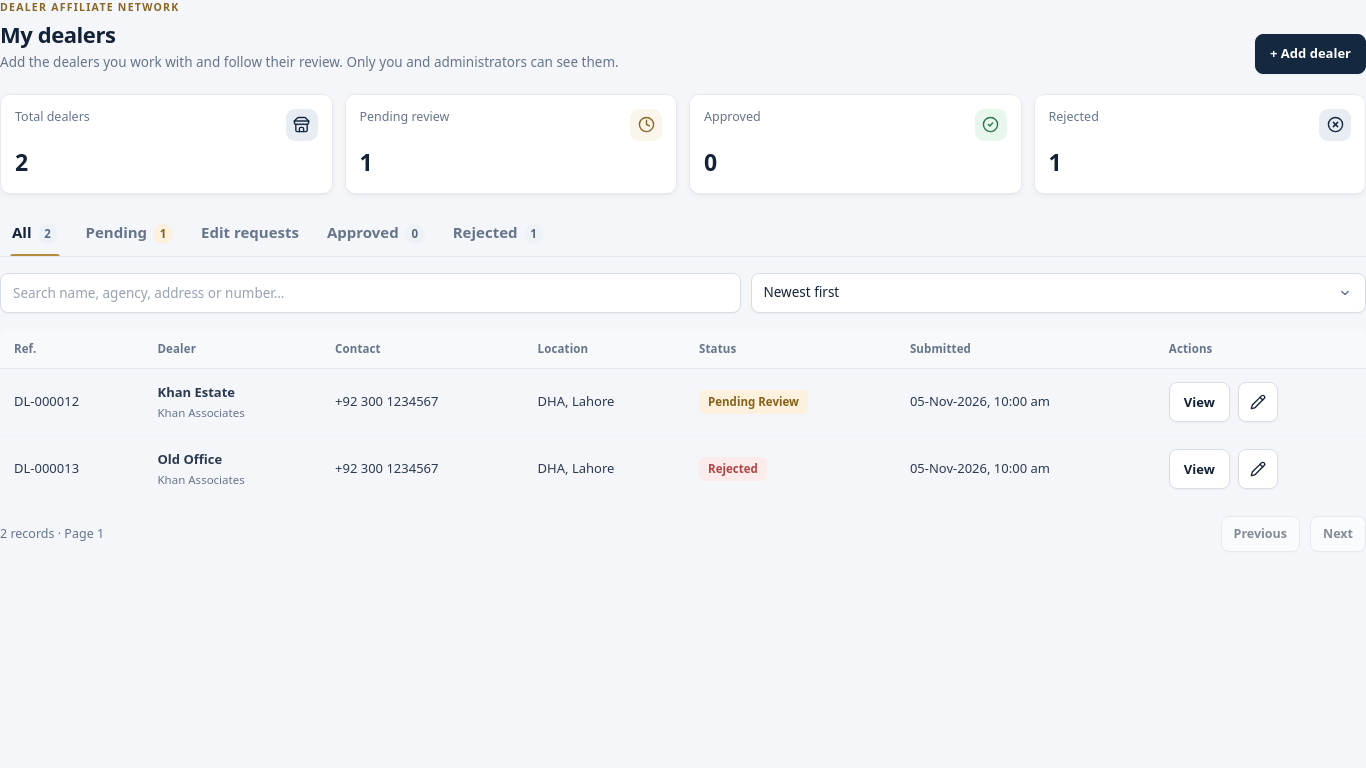
an agent's dealers › shows the rejection reason and no way to change the dealer
Click the button with aria-label "View Old Office": [1199, 469] box [1169,449,1230,489]
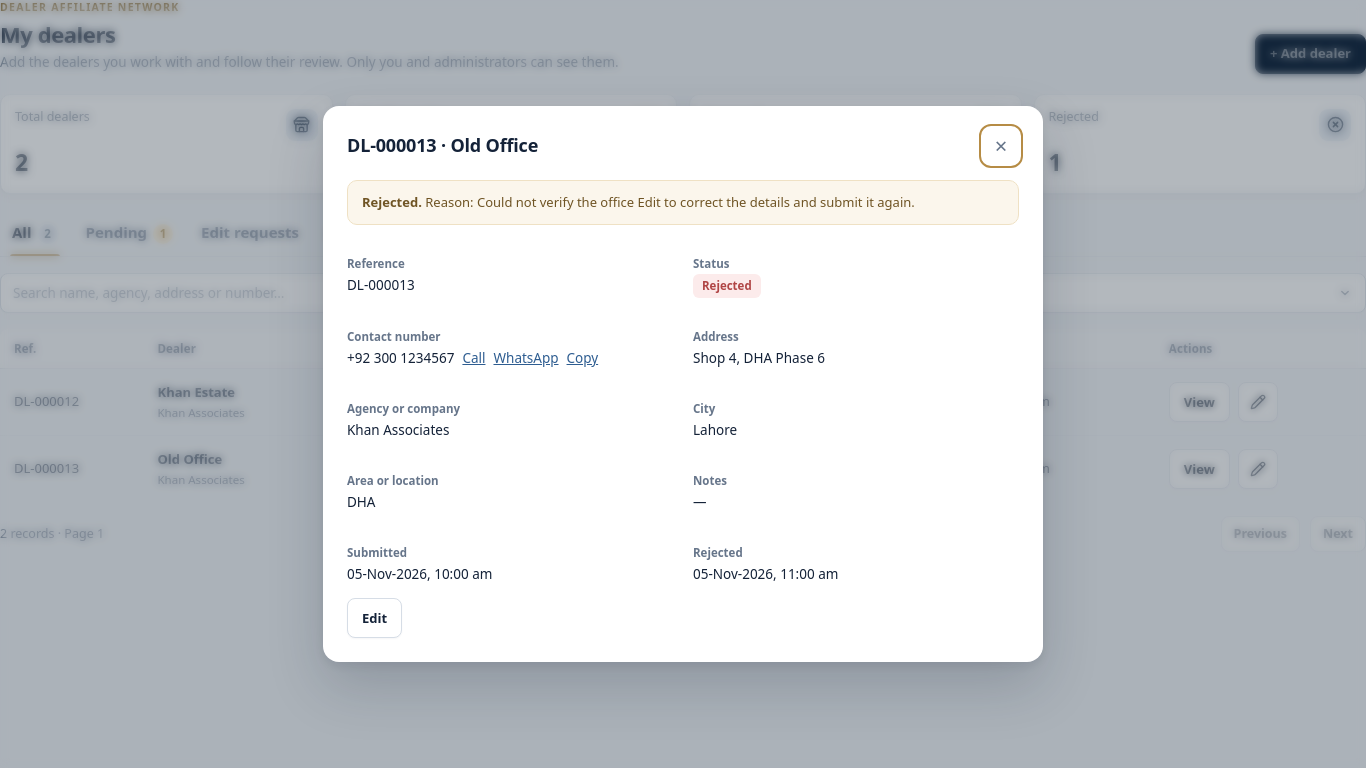
Check: the text "Reason: Could not verify the office" is shown, box [425,193,634,211]
